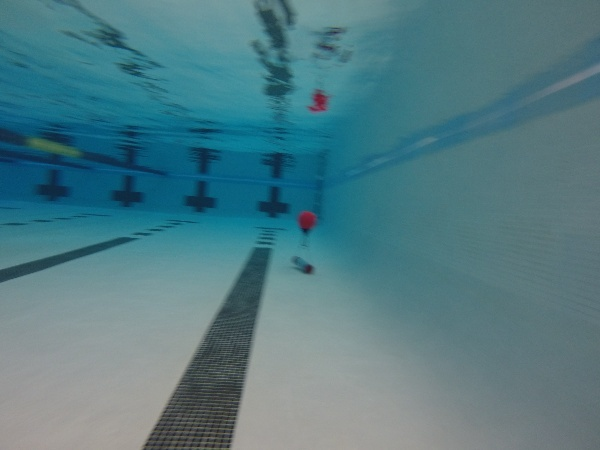buoy_red: (294, 209, 317, 235)
